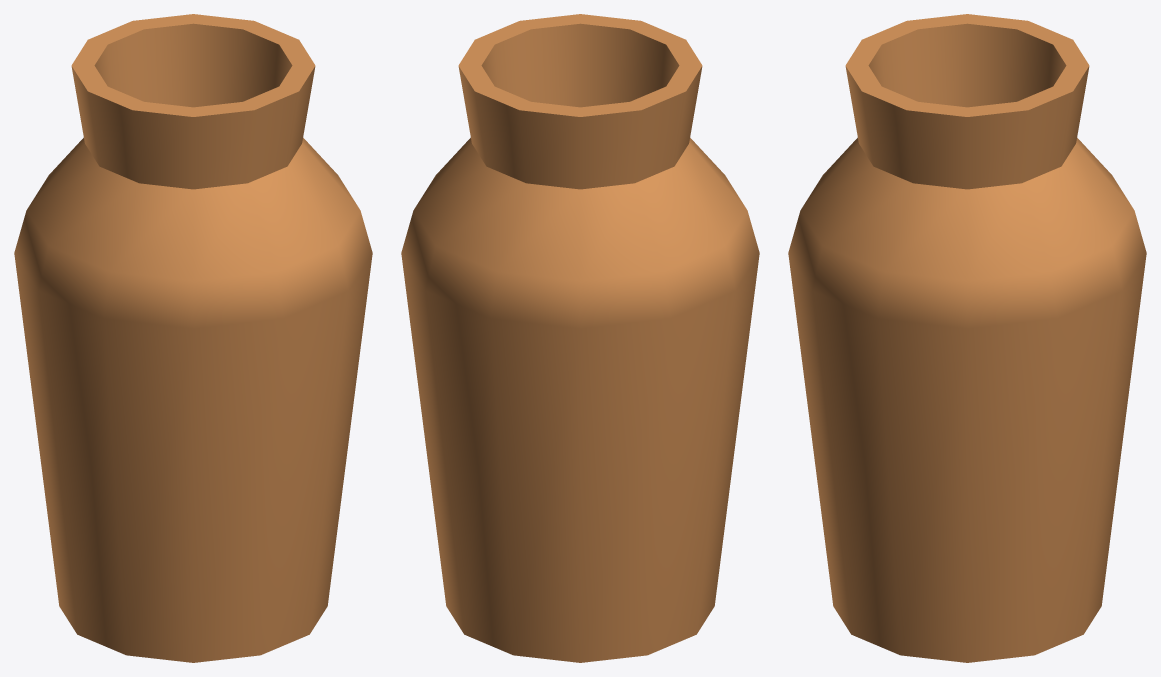
File: Vaso_3.fbx
3 renders of one model, left to right at view 1: azimuth 30°, elevation 25°; view 2: azimuth 150°, elevation 25°; view 3: azimuth 270°, elevation 25°, orthographic.
Visible parts, largest first — view 1: Vaso_3; view 2: Vaso_3; view 3: Vaso_3.
Part boxes in pixels (<box>): Vaso_3: <box>14,14,372,662</box>; Vaso_3: <box>401,14,759,662</box>; Vaso_3: <box>788,14,1146,662</box>.
Bounding box in the file's own units: 0.2999 × 0.4991 × 0.2999.
